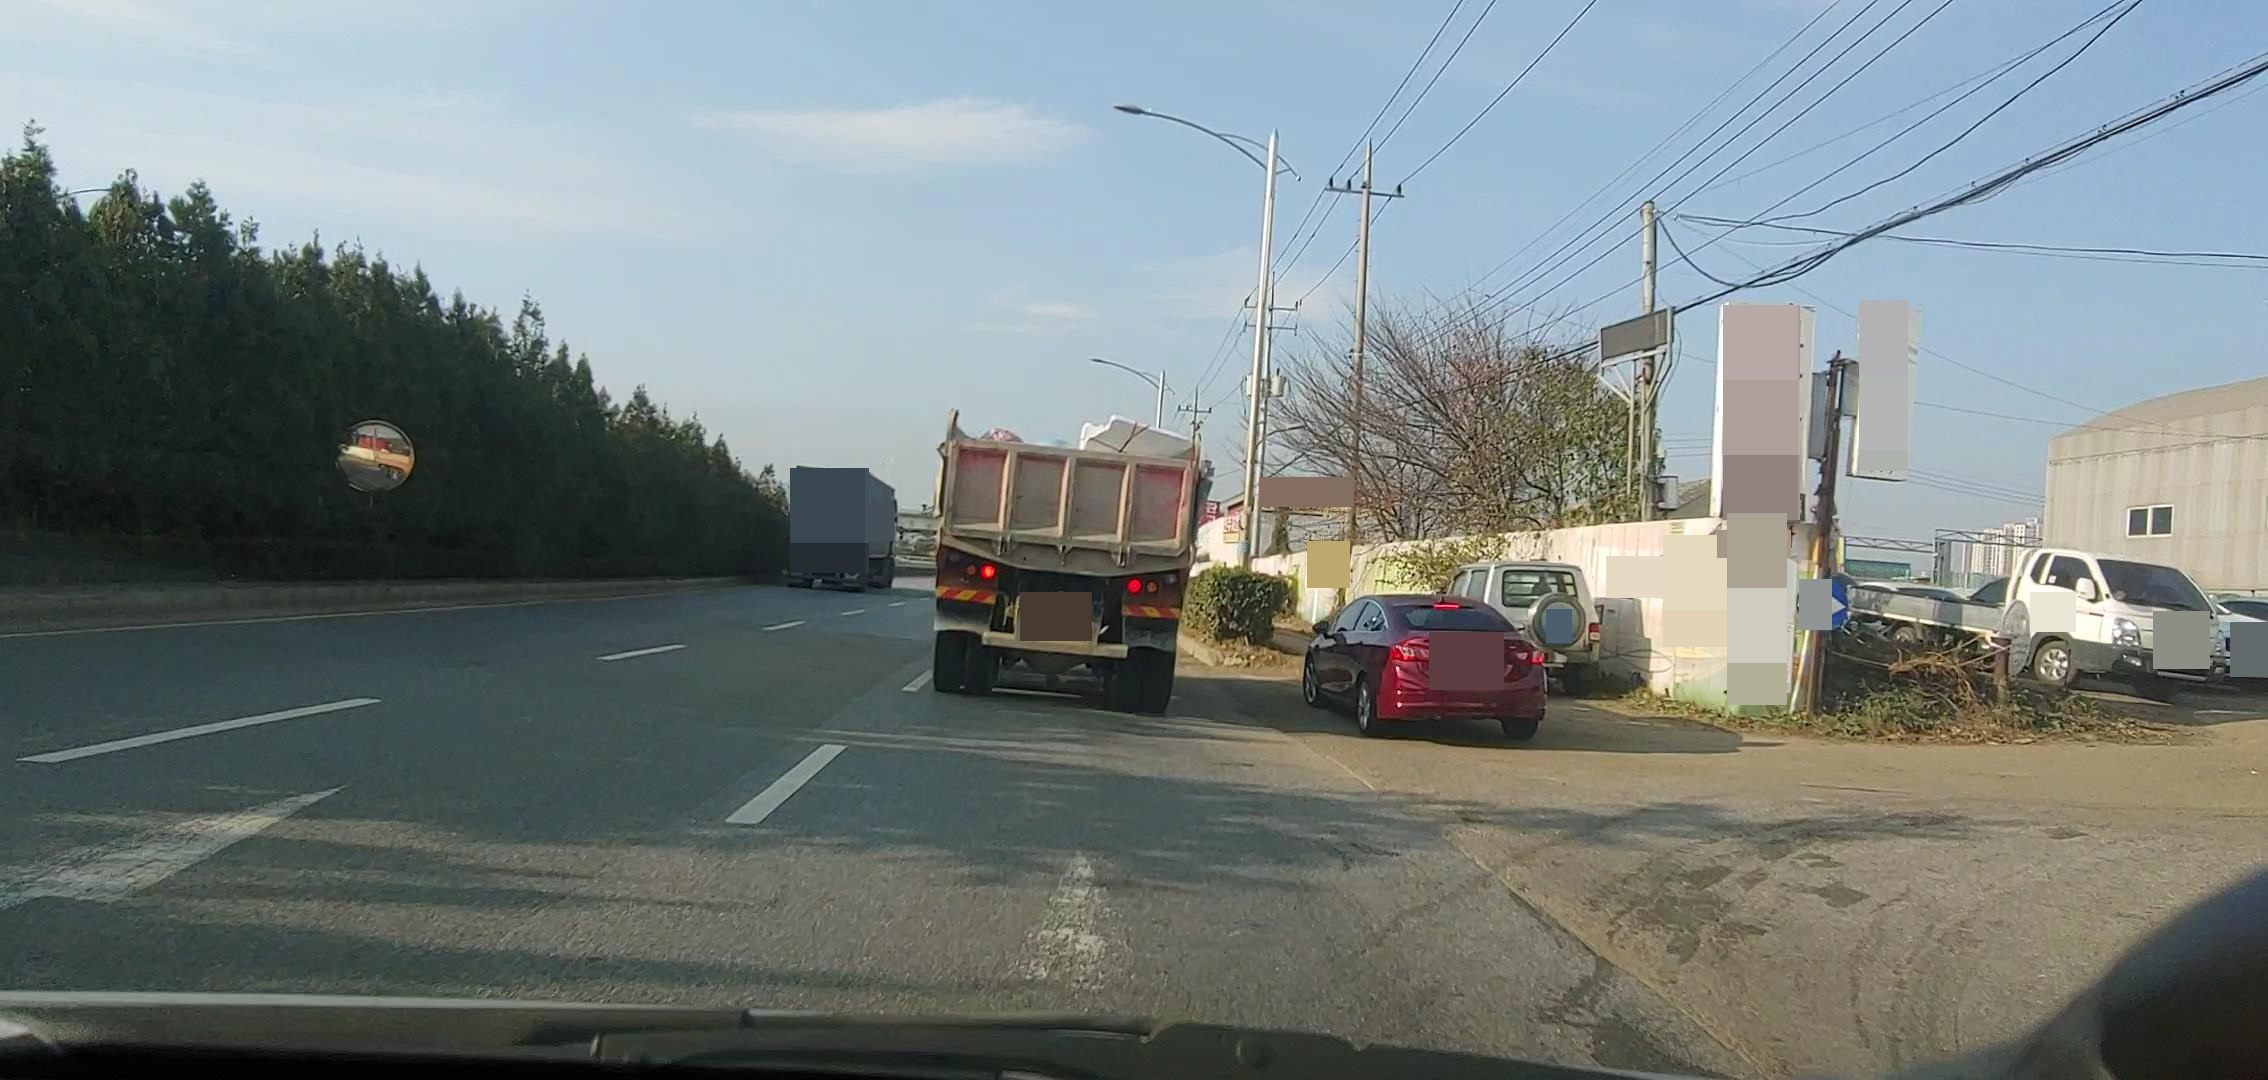불법차량: (920, 409, 1216, 714)
